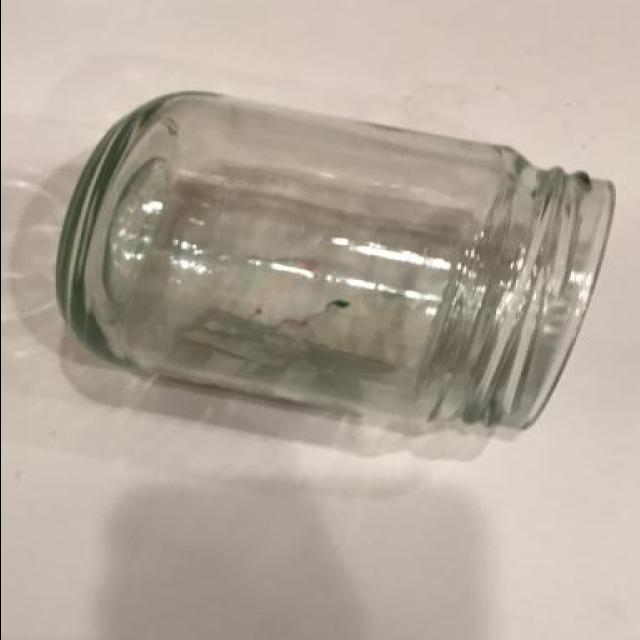litter: (35, 85, 605, 446)
